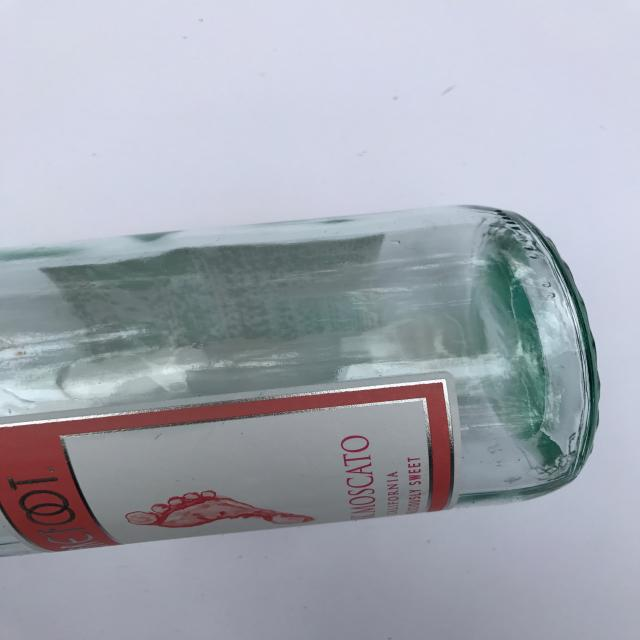Glass: (0, 201, 600, 559)
